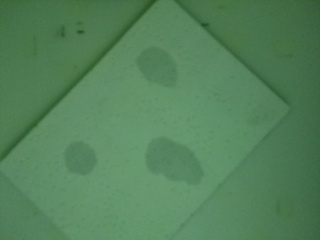Water_detected: (146, 142, 198, 192), (141, 46, 180, 85), (70, 144, 101, 175)
